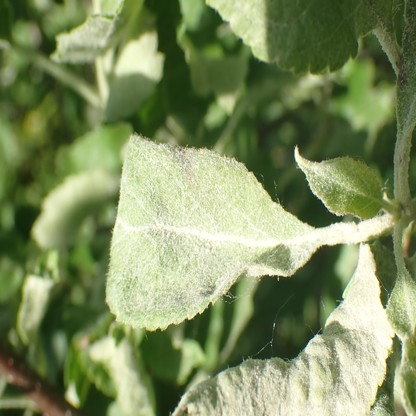powder: (105, 134, 308, 329), (172, 243, 396, 416), (205, 0, 394, 72), (295, 146, 382, 218), (387, 270, 416, 416), (52, 14, 119, 63), (396, 1, 416, 134)
